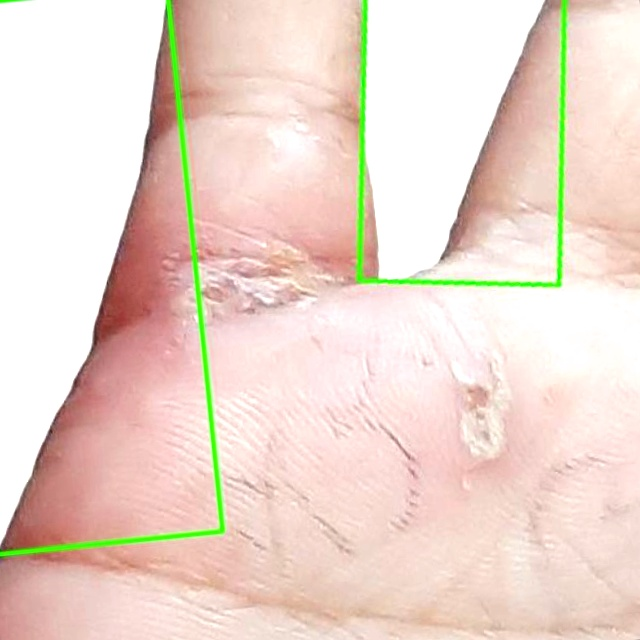Scabies: (0, 0, 222, 554), (359, 0, 564, 284)
